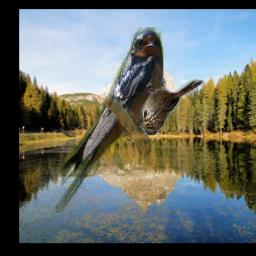Sparrow: (140, 79, 204, 136)
Swallow: (56, 28, 164, 214)
